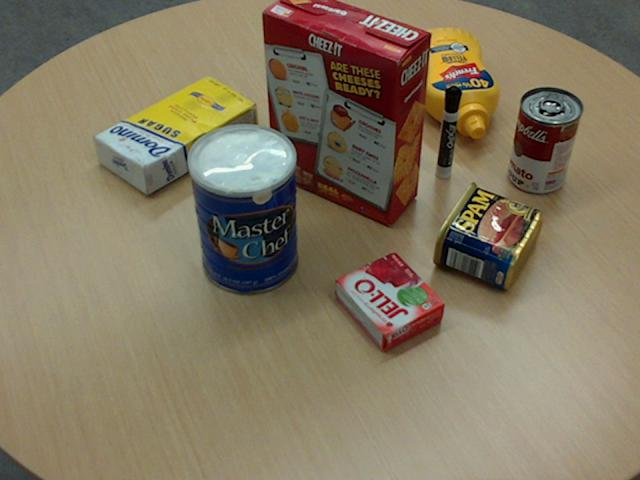cracker_box: (261, 0, 429, 224)
gelatin_box: (335, 251, 445, 350)
large_marker: (435, 86, 461, 177)
master_chef_can: (187, 123, 297, 294)
mug: (305, 33, 381, 124)
mustard_bottle: (404, 28, 498, 138)
potted_meat_can: (431, 180, 541, 288)
sugar_box: (92, 74, 257, 193)
tomato_soup_can: (508, 86, 582, 193)
tuna_fish_can: (333, 22, 397, 77)
